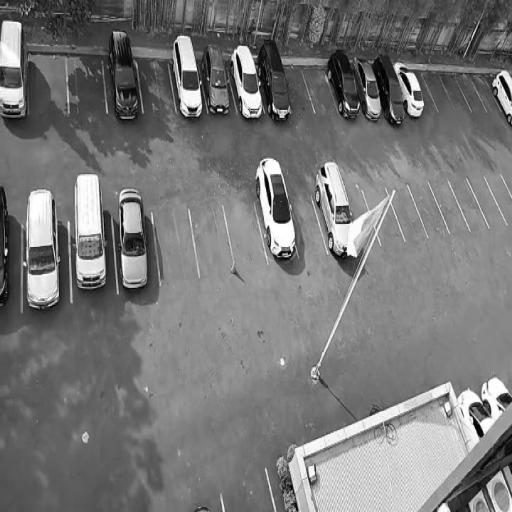Car: (18, 178, 66, 316), (247, 152, 301, 265), (70, 166, 110, 297), (307, 159, 359, 258), (112, 176, 152, 300), (106, 26, 144, 126), (167, 31, 207, 124), (0, 10, 31, 126), (253, 35, 293, 123), (322, 46, 364, 120), (225, 43, 266, 118), (196, 40, 235, 117), (371, 52, 409, 125), (455, 380, 497, 445), (350, 53, 386, 125), (393, 56, 428, 120), (0, 171, 13, 314), (477, 373, 512, 423), (490, 66, 512, 129)
Space Available: (152, 207, 198, 283), (189, 202, 234, 277), (28, 45, 70, 116), (223, 203, 268, 265), (66, 52, 107, 116), (222, 466, 278, 512), (362, 187, 403, 248), (291, 195, 329, 259), (429, 179, 471, 236), (386, 184, 428, 241), (407, 182, 449, 238), (137, 56, 178, 113), (448, 177, 489, 232), (345, 186, 379, 249), (465, 176, 506, 228), (302, 65, 339, 117), (284, 64, 315, 118), (484, 173, 512, 222), (438, 73, 471, 114), (421, 71, 454, 111), (455, 73, 487, 111), (469, 75, 499, 112), (413, 69, 438, 111), (501, 169, 512, 197)
